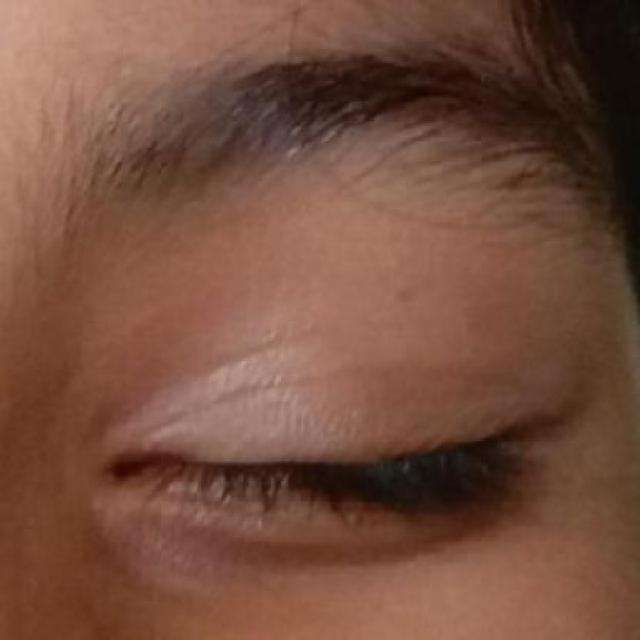drowsy: (100, 306, 529, 639)
